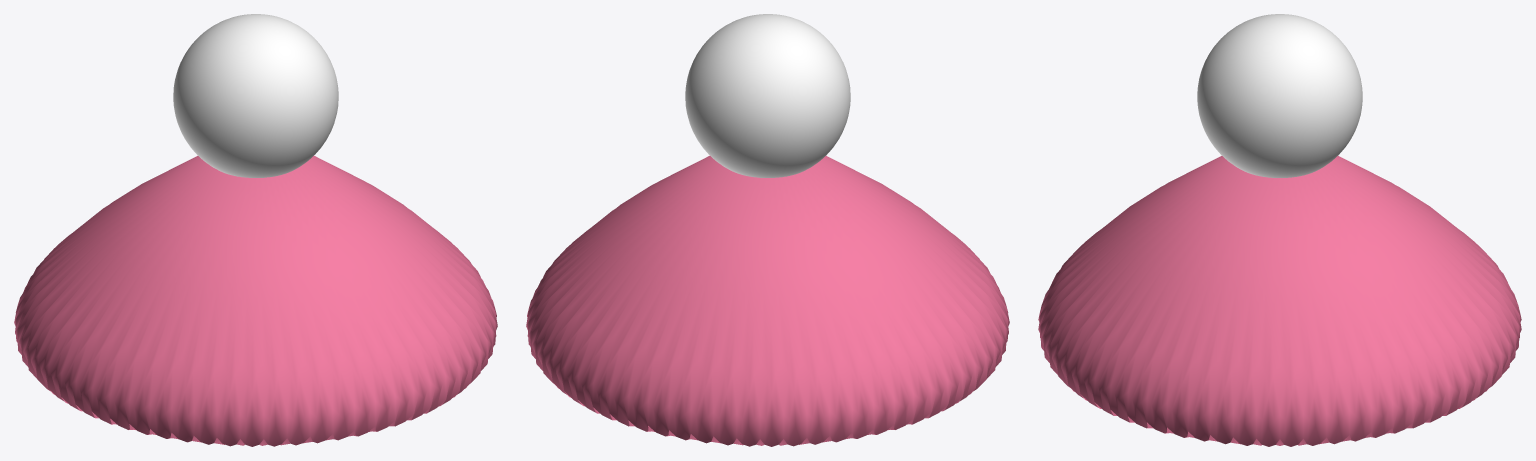
Rendered from candy_hill.glb.
3 views of the same model, side by side, from view 1: azimuth 30°, elevation 25°; view 2: azimuth 150°, elevation 25°; view 3: azimuth 270°, elevation 25° (orthographic).
Visible parts, largest first — view 1: CandyHill, HillCap; view 2: CandyHill, HillCap; view 3: CandyHill, HillCap.
Boxes of the visible parts, x1,y1,x2,y2 form: CandyHill: (14,155,497,446); HillCap: (173,14,338,177); CandyHill: (526,155,1009,446); HillCap: (685,14,850,177); CandyHill: (1038,156,1521,446); HillCap: (1197,14,1362,177).
Size of the model in its own units: 6.42 by 5.42 by 6.42.
